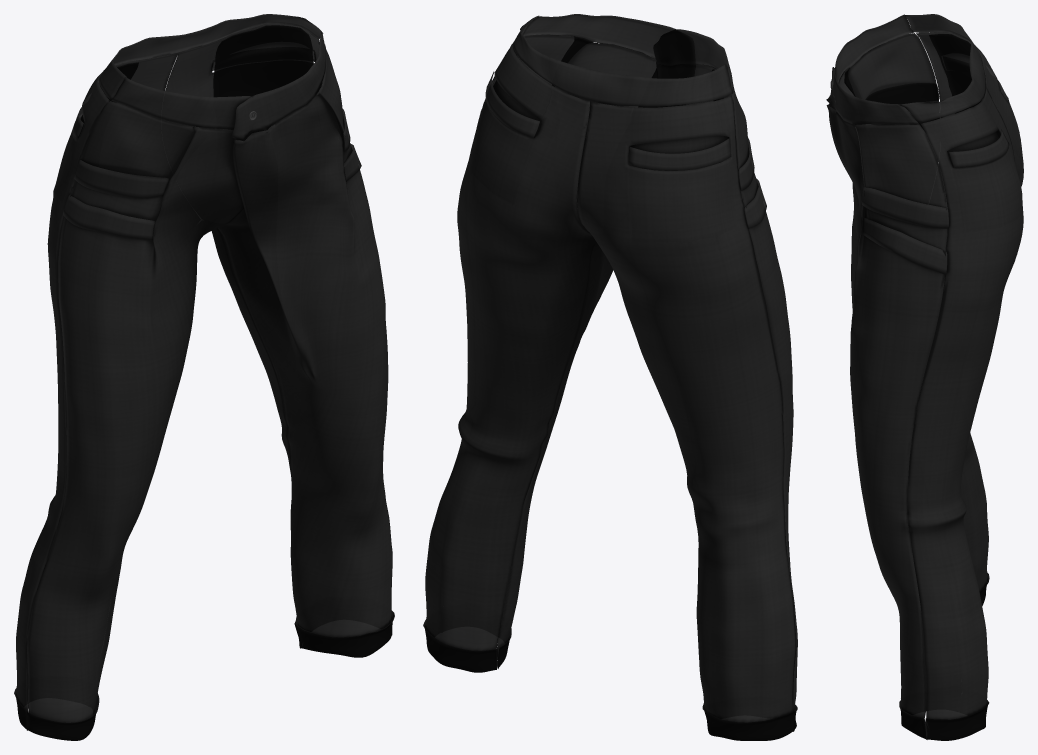
3 renders of one model, left to right at view 1: azimuth 30°, elevation 25°; view 2: azimuth 150°, elevation 25°; view 3: azimuth 270°, elevation 25°, orthographic. The views are drawn at different scales.
Visible parts, largest first — view 1: RealTrousers.001; view 2: RealTrousers.001; view 3: RealTrousers.001.
Part boxes in pixels (x1,y1,x2,y2): RealTrousers.001: (14,14,394,740); RealTrousers.001: (423,14,797,740); RealTrousers.001: (826,14,1023,740).
Size of the model in its own units: 43.28 by 73.96 by 21.52.
2 materials, 1 textured.
